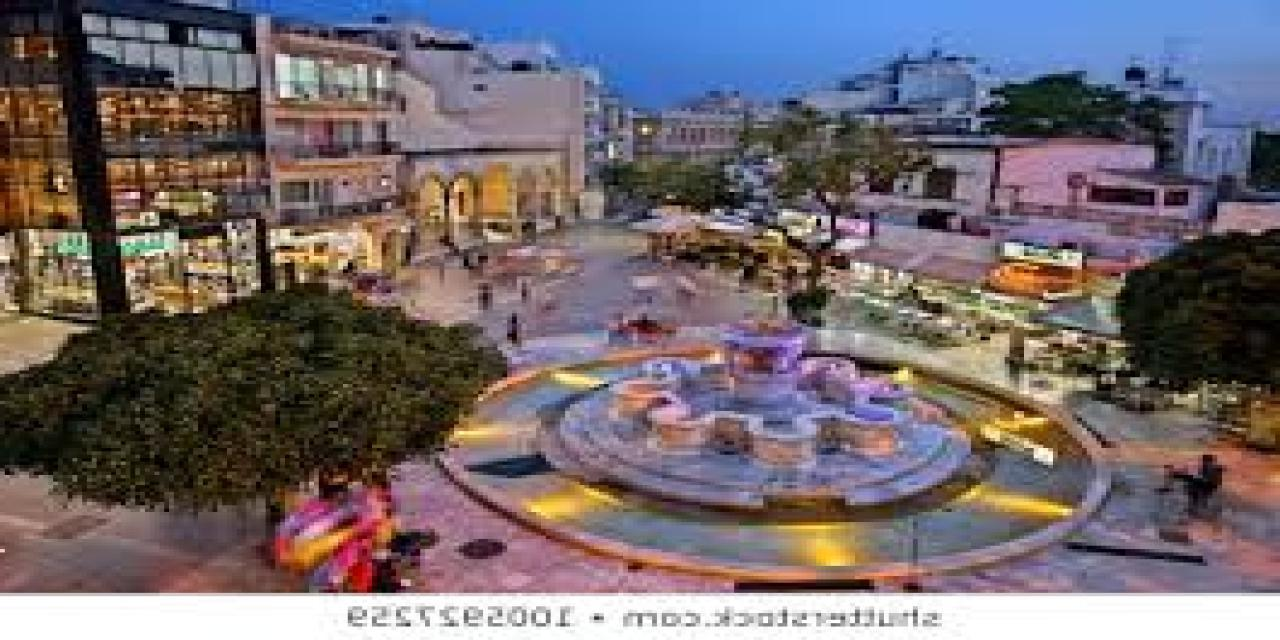Liontaria: (618, 313, 901, 455)
